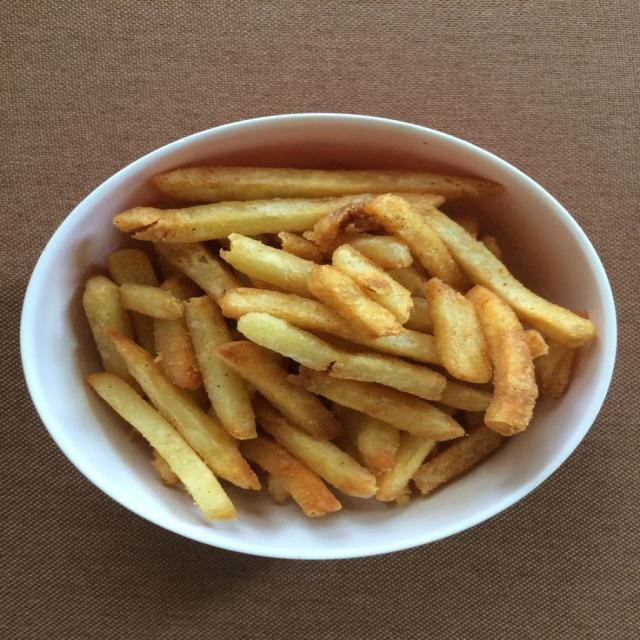potato fries: (85, 168, 594, 518), (414, 198, 595, 347), (107, 332, 259, 489), (87, 373, 235, 519), (220, 288, 439, 364), (114, 193, 373, 242), (290, 368, 464, 440), (154, 167, 502, 202), (216, 341, 339, 439), (255, 399, 376, 497), (467, 286, 538, 435), (185, 297, 255, 439), (365, 194, 467, 290), (241, 435, 340, 516), (307, 265, 404, 337), (426, 278, 492, 382), (414, 424, 505, 494), (333, 244, 412, 323), (220, 234, 316, 296), (238, 313, 339, 370), (329, 353, 446, 400), (83, 276, 133, 380), (156, 243, 240, 301), (334, 405, 399, 476), (376, 433, 436, 501), (154, 315, 202, 389), (346, 234, 413, 269), (534, 340, 575, 397), (120, 283, 183, 319), (107, 249, 158, 286), (440, 381, 491, 412), (278, 232, 323, 263), (388, 265, 426, 297), (405, 296, 433, 333), (526, 329, 549, 359), (267, 473, 290, 503)
